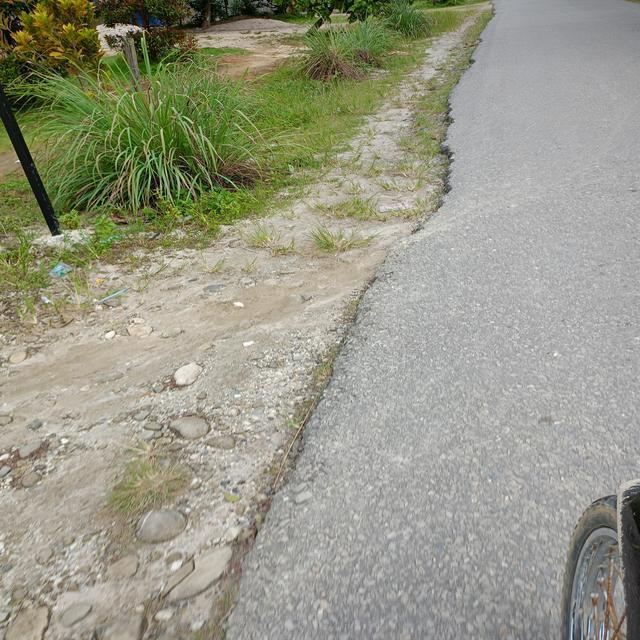Pinggir: (146, 26, 506, 640)
